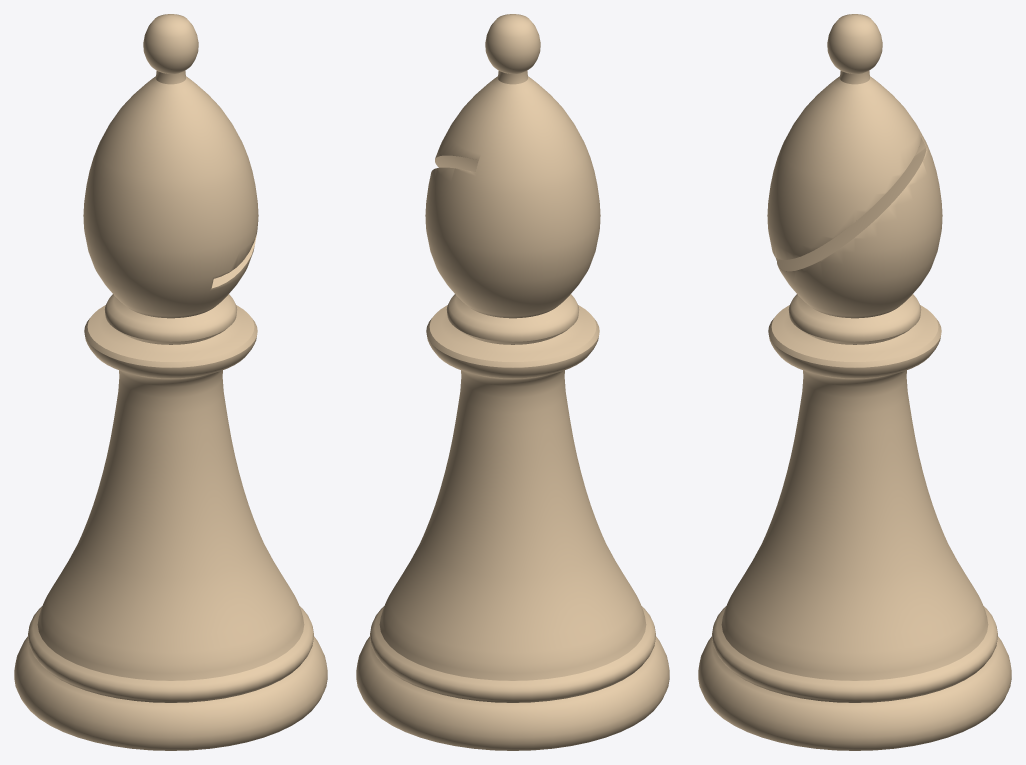
Rendered from white-bishop.glb.
3 views of the same model, side by side, from view 1: azimuth 30°, elevation 25°; view 2: azimuth 150°, elevation 25°; view 3: azimuth 270°, elevation 25° (orthographic).
Parts seen in each view (by area): view 1: white-bishop.001; view 2: white-bishop.001; view 3: white-bishop.001.
Part boxes in pixels (left/top/right/bottom): white-bishop.001: left=14, top=14, right=327, bottom=750; white-bishop.001: left=356, top=14, right=669, bottom=750; white-bishop.001: left=698, top=14, right=1011, bottom=750.
Bounding box in the file's own units: 0.5766 × 1.36 × 0.5766.
